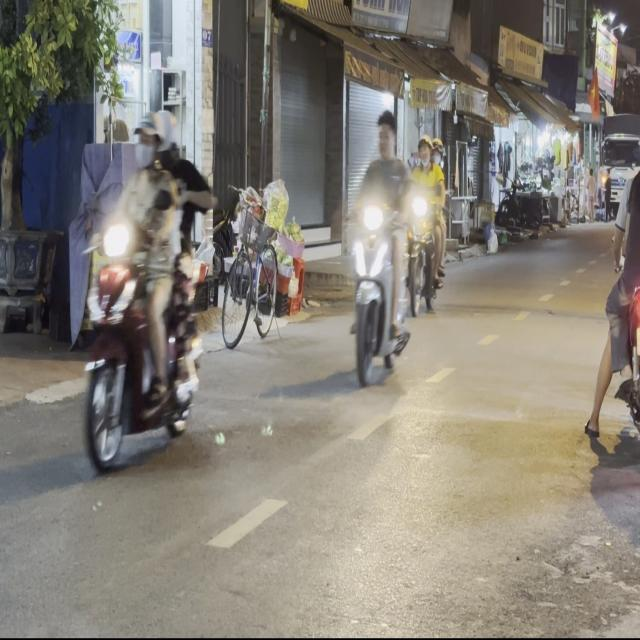helmet: (133, 108, 162, 173), (152, 106, 182, 167), (416, 132, 432, 163), (431, 135, 442, 162)
licenseplate: (74, 105, 206, 476), (345, 105, 414, 387), (587, 104, 640, 460), (404, 131, 448, 312)
motorcyclist: (374, 108, 397, 156)
